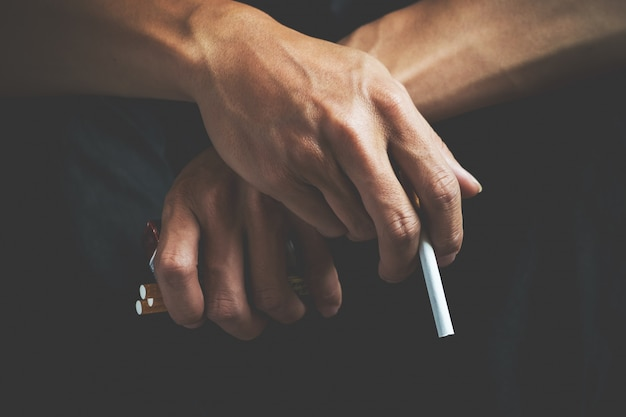cigarette: (404, 190, 454, 340), (134, 278, 173, 321)
